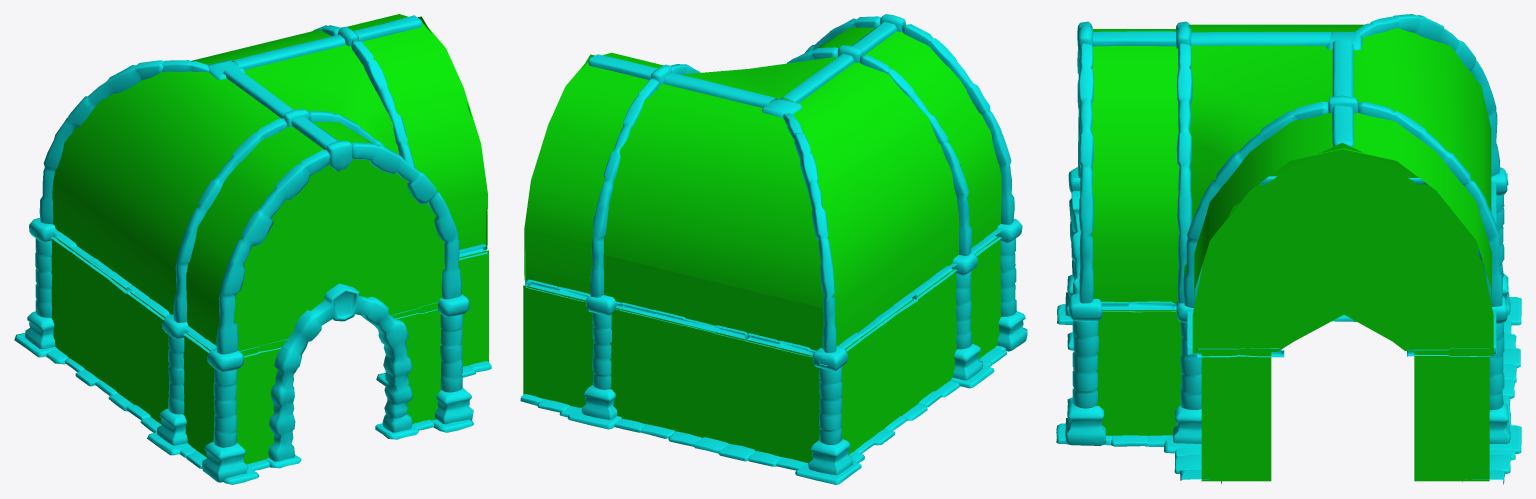
Rendered from Hallway_Corner_3.fbx.
3 renders of one model, left to right at view 1: azimuth 30°, elevation 25°; view 2: azimuth 150°, elevation 25°; view 3: azimuth 270°, elevation 25°, orthographic. The views are drawn at different scales.
Parts seen in each view (by area): view 1: Room_Corner_3:Corner2Walls, Room_Corner_3:Corner2Frame; view 2: Room_Corner_3:Corner2Walls, Room_Corner_3:Corner2Frame; view 3: Room_Corner_3:Corner2Walls, Room_Corner_3:Corner2Frame.
Part boxes in pixels (x1,y1,x2,y2): Room_Corner_3:Corner2Walls: (51, 14, 488, 464); Room_Corner_3:Corner2Frame: (14, 15, 491, 484); Room_Corner_3:Corner2Walls: (523, 27, 1001, 462); Room_Corner_3:Corner2Frame: (520, 14, 1027, 484); Room_Corner_3:Corner2Walls: (1091, 24, 1493, 481); Room_Corner_3:Corner2Frame: (1056, 14, 1521, 484).
Bounding box in the file's own units: 1025 × 1085 × 895.
